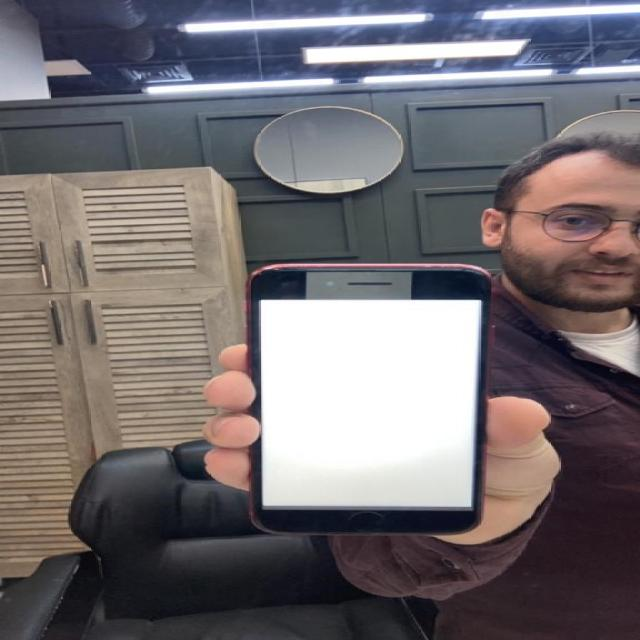phone good: (248, 266, 487, 539)
